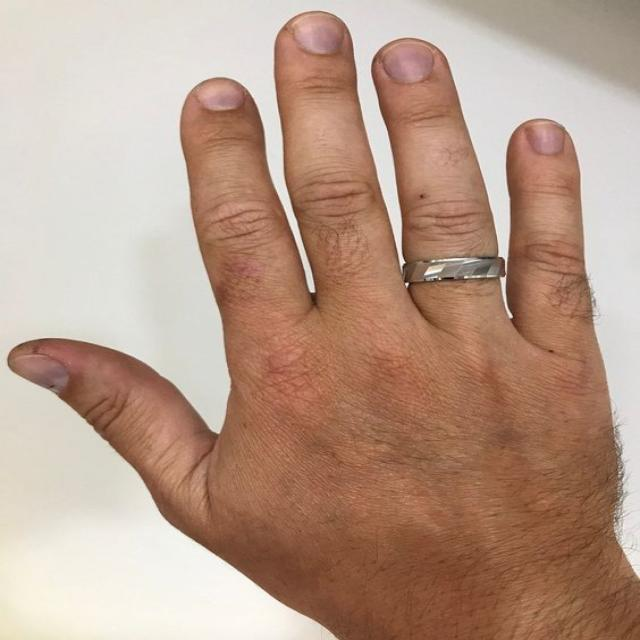Fingernail: (9, 355, 68, 393), (383, 42, 433, 83), (293, 15, 343, 54), (197, 79, 243, 109), (526, 122, 565, 155)
